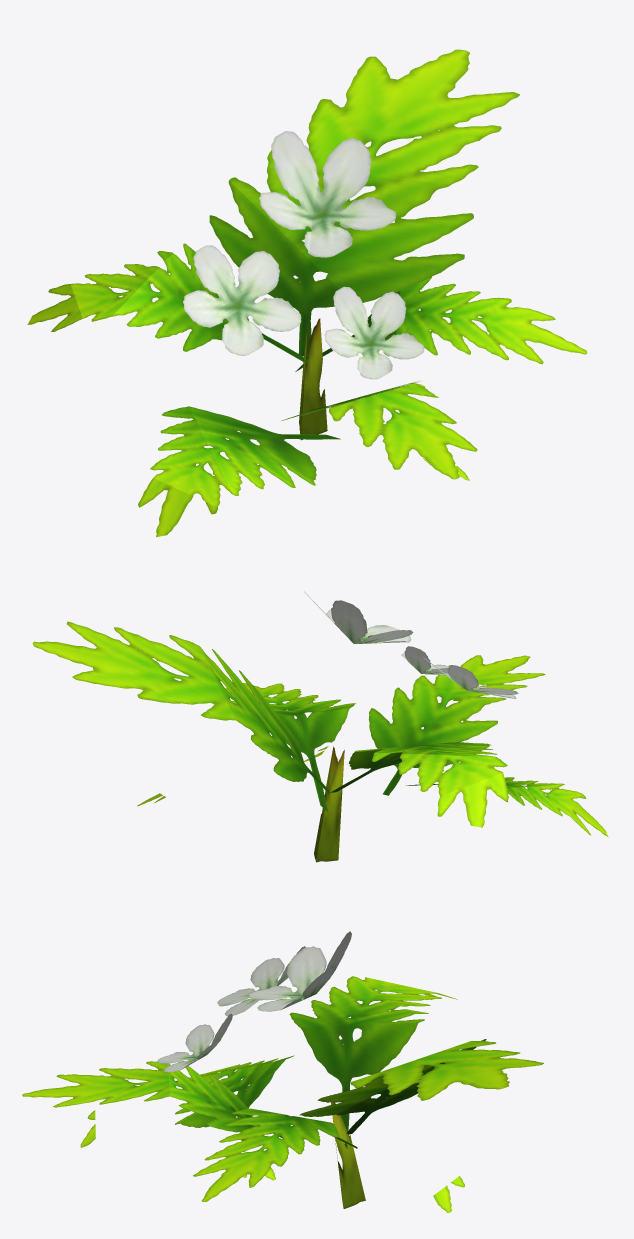
The model's file is hua09.FBX.
3 renders of one model, top to bottom at view 1: azimuth 30°, elevation 25°; view 2: azimuth 150°, elevation 25°; view 3: azimuth 270°, elevation 25°, orthographic. The views are drawn at different scales.
Visible parts, largest first — view 1: hua09; view 2: hua09; view 3: hua09.
Boxes of the visible parts, x1,y1,x2,y2 form: hua09: (27,49,587,536); hua09: (32,591,608,862); hua09: (22,931,543,1212).
Bounding box in the file's own units: 27.44 × 15.18 × 28.17.
